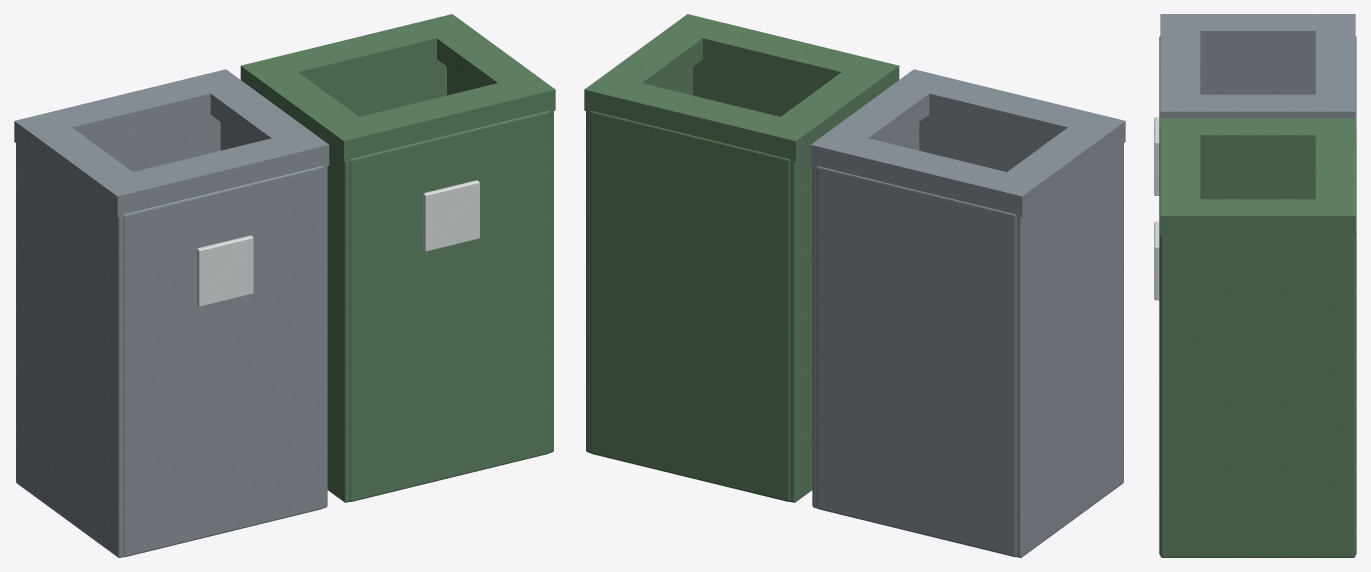
The model's file is recycling-station.glb.
3 views of the same model, side by side, from view 1: azimuth 30°, elevation 25°; view 2: azimuth 150°, elevation 25°; view 3: azimuth 270°, elevation 25° (orthographic). The views are drawn at different scales.
Parts seen in each view (by area): view 1: Bin front or back, Bin front or back.002, Bin side wall, Continuous bin opening rim, Continuous bin opening rim.001, Bin side wall.002, Bin front or back.001, Bin front or back.003, Unbranded waste-stream marker, Unbranded waste-stream marker.001, Bin side wall.001, Bin side wall.003; view 2: Bin front or back.001, Bin front or back.003, Bin side wall, Continuous bin opening rim, Continuous bin opening rim.001, Bin side wall.002, Bin front or back, Bin front or back.002, Bin side wall.001, Bin side wall.003; view 3: Bin side wall.003, Continuous bin opening rim.001, Continuous bin opening rim, Bin side wall, Bin side wall.002, Bin front or back.002, Bin front or back.003, Unbranded waste-stream marker.001, Unbranded waste-stream marker.
Part boxes in pixels (bbox=[...]): Bin front or back: bbox=[123, 166, 323, 557]; Bin front or back.002: bbox=[349, 111, 549, 501]; Bin side wall: bbox=[16, 143, 123, 557]; Continuous bin opening rim: bbox=[14, 69, 329, 217]; Continuous bin opening rim.001: bbox=[240, 14, 555, 161]; Bin side wall.002: bbox=[327, 152, 349, 502]; Bin front or back.001: bbox=[93, 114, 220, 171]; Bin front or back.003: bbox=[320, 59, 446, 116]; Unbranded waste-stream marker: bbox=[196, 235, 253, 306]; Unbranded waste-stream marker.001: bbox=[423, 180, 479, 251]; Bin side wall.001: bbox=[220, 122, 327, 508]; Bin side wall.003: bbox=[447, 67, 553, 452]; Bin front or back.001: bbox=[816, 166, 1016, 557]; Bin front or back.003: bbox=[590, 111, 790, 501]; Bin side wall: bbox=[1016, 143, 1123, 557]; Continuous bin opening rim: bbox=[810, 69, 1125, 217]; Continuous bin opening rim.001: bbox=[584, 14, 899, 161]; Bin side wall.002: bbox=[790, 152, 812, 502]; Bin front or back: bbox=[919, 114, 1046, 171]; Bin front or back.002: bbox=[693, 59, 819, 116]; Bin side wall.001: bbox=[812, 122, 919, 508]; Bin side wall.003: bbox=[586, 67, 692, 452]; Bin side wall.003: bbox=[1160, 236, 1355, 557]; Continuous bin opening rim.001: bbox=[1160, 118, 1355, 235]; Continuous bin opening rim: bbox=[1160, 14, 1355, 118]; Bin side wall: bbox=[1200, 50, 1315, 94]; Bin side wall.002: bbox=[1200, 155, 1315, 199]; Bin front or back.002: bbox=[1159, 140, 1160, 554]; Bin front or back.003: bbox=[1355, 140, 1356, 554]; Unbranded waste-stream marker.001: bbox=[1154, 221, 1159, 300]; Unbranded waste-stream marker: bbox=[1154, 117, 1159, 195].
Size of the model in its own units: 1.2 by 0.95 by 0.5075.
4 materials, 4 textured.
